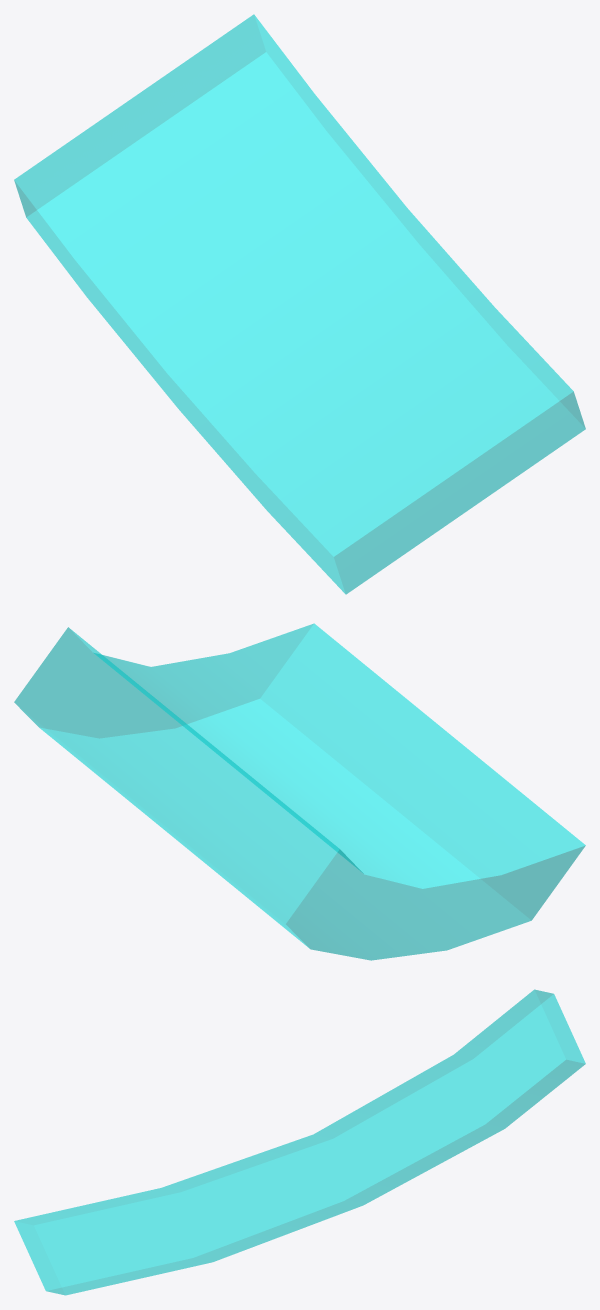
File: SM_Bld_Plane_Crash_01_Door_Rear_01_Collision.fbx
3 views of the same model, one above another, from view 1: azimuth 30°, elevation 25°; view 2: azimuth 150°, elevation 25°; view 3: azimuth 270°, elevation 25° (orthographic). The views are drawn at different scales.
Parts seen in each view (by area): view 1: SM_Bld_Plane_Crash_01_Door_Rear_01_Collision; view 2: SM_Bld_Plane_Crash_01_Door_Rear_01_Collision; view 3: SM_Bld_Plane_Crash_01_Door_Rear_01_Collision.
Part boxes in pixels (bbox=[...]): SM_Bld_Plane_Crash_01_Door_Rear_01_Collision: bbox=[14, 14, 585, 594]; SM_Bld_Plane_Crash_01_Door_Rear_01_Collision: bbox=[14, 623, 585, 960]; SM_Bld_Plane_Crash_01_Door_Rear_01_Collision: bbox=[14, 989, 585, 1295].
Bounding box in the file's own units: 170 × 191 × 264.
